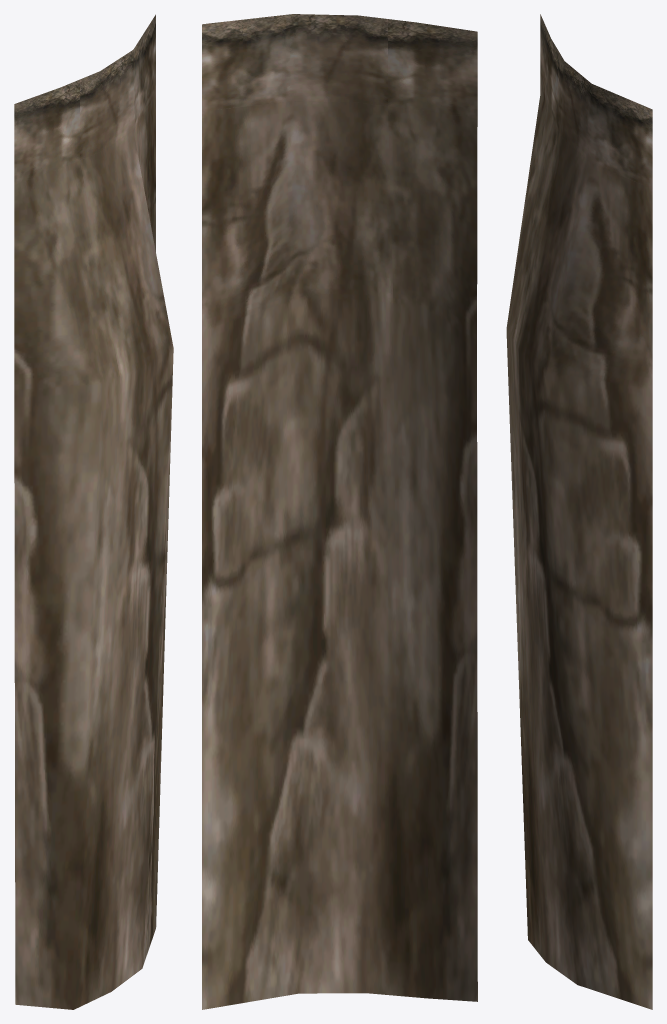
File: OVERHILL_A_01_LINE52.fbx
The picture shows the model from 3 angles, left to right: view 1: azimuth 30°, elevation 25°; view 2: azimuth 150°, elevation 25°; view 3: azimuth 270°, elevation 25°; orthographic projection. The views are drawn at different scales.
Visible parts, largest first — view 1: OVERHILL_A_01_LINE52; view 2: OVERHILL_A_01_LINE52; view 3: OVERHILL_A_01_LINE52.
Part boxes in pixels (left/top/right/bottom): OVERHILL_A_01_LINE52: left=14, top=14, right=173, bottom=1009; OVERHILL_A_01_LINE52: left=202, top=14, right=477, bottom=1009; OVERHILL_A_01_LINE52: left=506, top=14, right=652, bottom=1009.
Bounding box in the file's own units: 33993 × 149570 × 21977.
2 materials, 2 textured.
